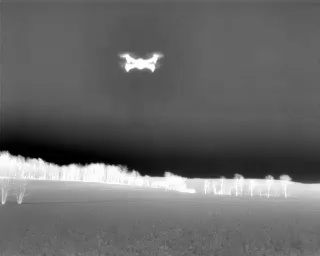DRONE: (113, 47, 168, 78)
